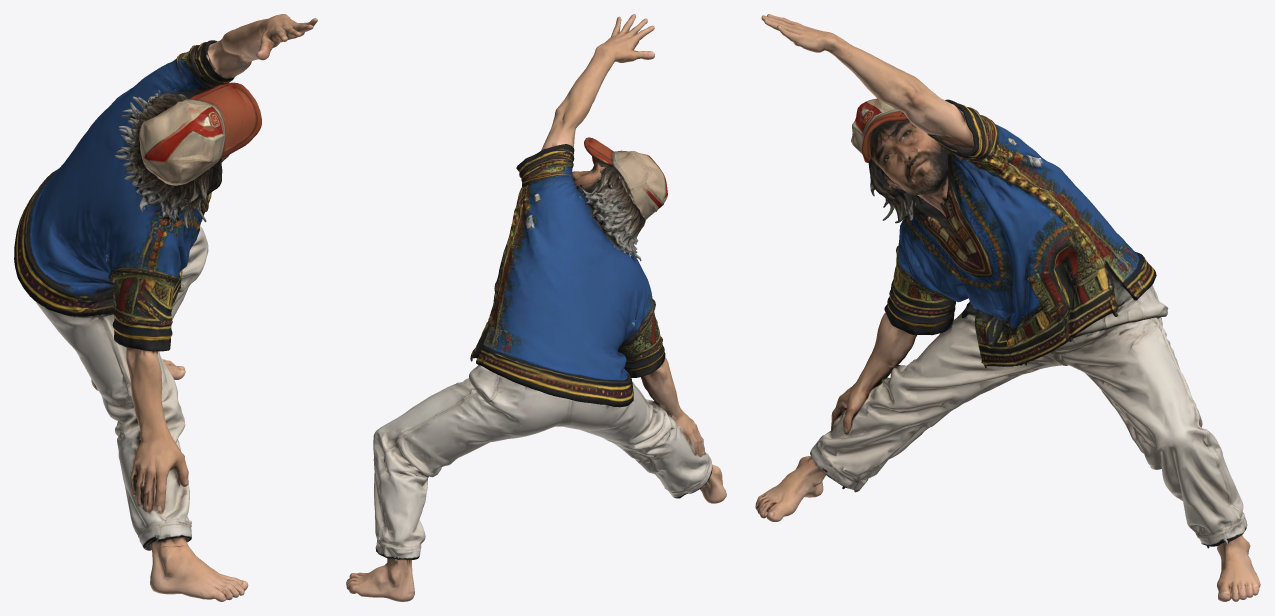
Rendered from iver-07.glb.
The picture shows the model from 3 angles, left to right: view 1: azimuth 30°, elevation 25°; view 2: azimuth 150°, elevation 25°; view 3: azimuth 270°, elevation 25°; orthographic projection. The views are drawn at different scales.
Visible parts, largest first — view 1: tripo_node_ee86da23-5ce1-4992-b72b-82be4215dbe4; view 2: tripo_node_ee86da23-5ce1-4992-b72b-82be4215dbe4; view 3: tripo_node_ee86da23-5ce1-4992-b72b-82be4215dbe4.
Boxes of the visible parts, x1=… form: tripo_node_ee86da23-5ce1-4992-b72b-82be4215dbe4: x1=14, y1=14, x2=317, y2=601; tripo_node_ee86da23-5ce1-4992-b72b-82be4215dbe4: x1=346, y1=14, x2=726, y2=601; tripo_node_ee86da23-5ce1-4992-b72b-82be4215dbe4: x1=755, y1=14, x2=1260, y2=601.
Size of the model in its own units: 0.4699 by 0.9998 by 0.8563.
1 material, 1 textured.
